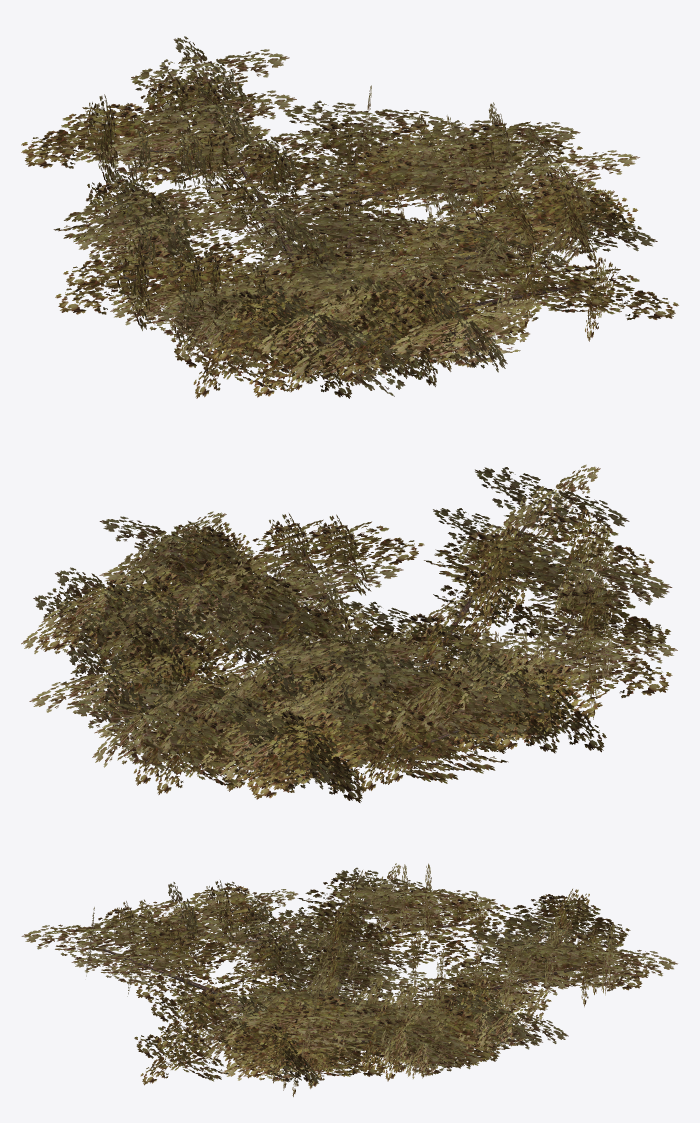
The model's file is bush_3d_04_golden_beige_lod0.glb.
3 views of the same model, one above another, from view 1: azimuth 30°, elevation 25°; view 2: azimuth 150°, elevation 25°; view 3: azimuth 270°, elevation 25° (orthographic). The views are drawn at different scales.
Parts seen in each view (by area): view 1: foliage_cards, wood_geometry; view 2: foliage_cards, wood_geometry; view 3: foliage_cards, wood_geometry.
Boxes of the visible parts, x1,y1,x2,y2 form: foliage_cards: (21,36,678,398); wood_geometry: (109,85,579,352); foliage_cards: (21,464,677,802); wood_geometry: (103,513,614,753); foliage_cards: (21,863,677,1096); wood_geometry: (102,905,604,1061).
Size of the model in its own units: 2.79 by 0.816 by 3.7.
2 materials, 2 textured.
